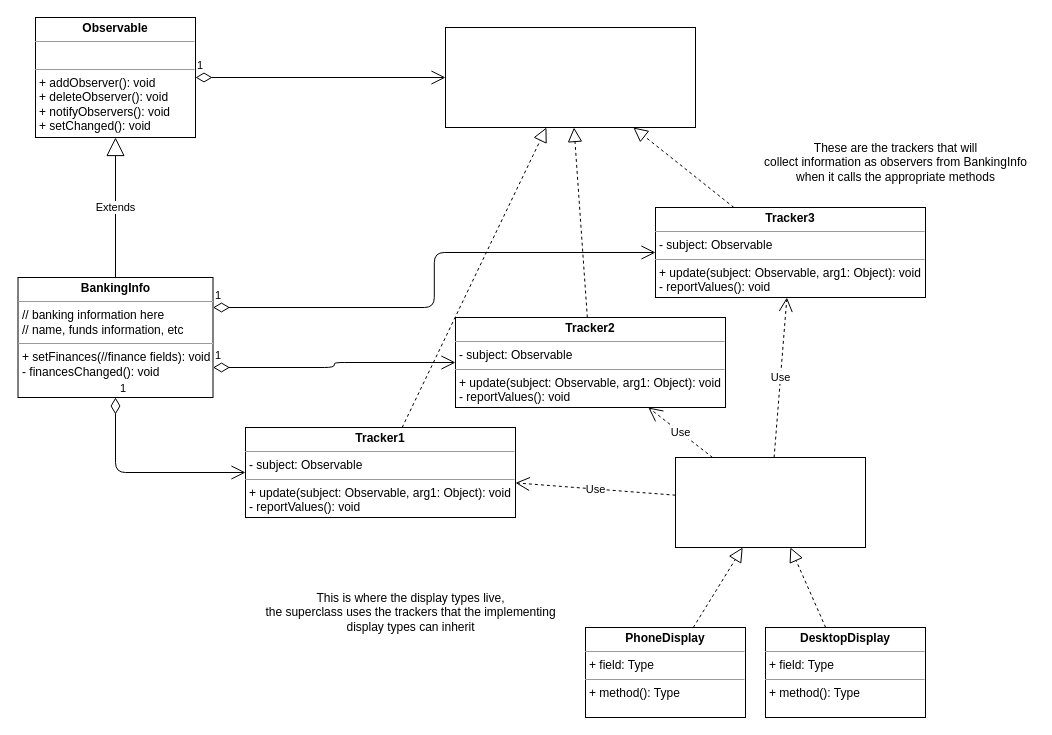
This 1052x735 diagram has some shape labels left out. Here are the shapes that lost their labels. From the top down, the centre of each, then its label:
At pixel 570 77: "<<Interface>> Observer + update(obs: Observable, arg1: Object): void".
At pixel 770 502: "<<Interface>> DisplayType".
